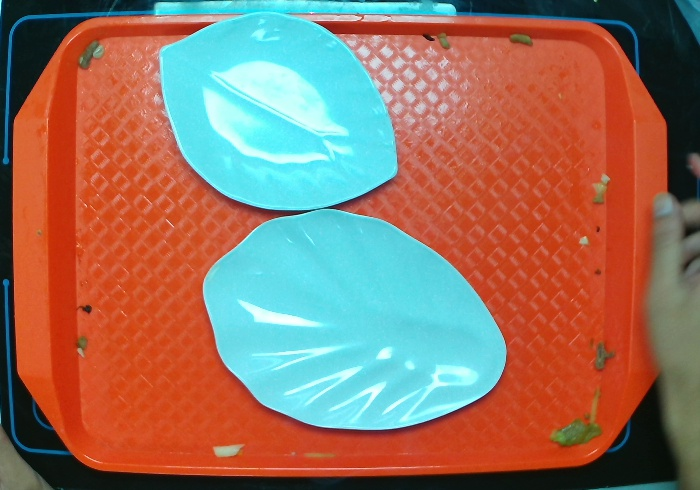RJxy-Bai_Ye_Pan: (203, 204, 513, 438)
RJxy-Da_Du_Pan: (153, 12, 405, 215)
